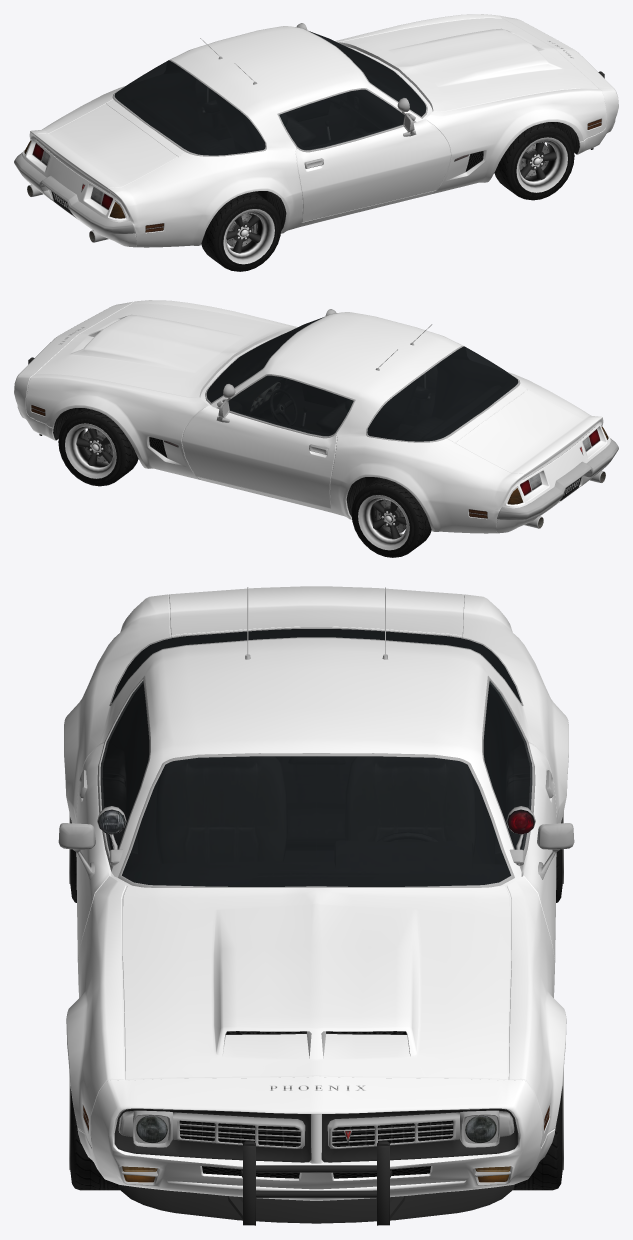
The model's file is cop71.glb.
3 views of the same model, one above another, from view 1: azimuth 30°, elevation 25°; view 2: azimuth 150°, elevation 25°; view 3: azimuth 270°, elevation 25° (orthographic). The views are drawn at different scales.
Visible parts, largest first — view 1: body, spin_RR, spin_FR; view 2: body, spin_RL, spin_FL; view 3: body, spin_FL, spin_FR.
Boxes of the visible parts, x1,y1,x2,y2 form: body: (14,14,618,247); spin_RR: (201,191,281,271); spin_FR: (494,122,574,200); body: (14,300,618,533); spin_RL: (351,477,431,557); spin_FL: (58,408,138,486); body: (58,586,574,1225); spin_FL: (513,1069,563,1190); spin_FR: (69,1073,119,1190).
Bounding box in the file's own units: 5.05 × 1.54 × 2.12.
8 materials, 7 textured.
